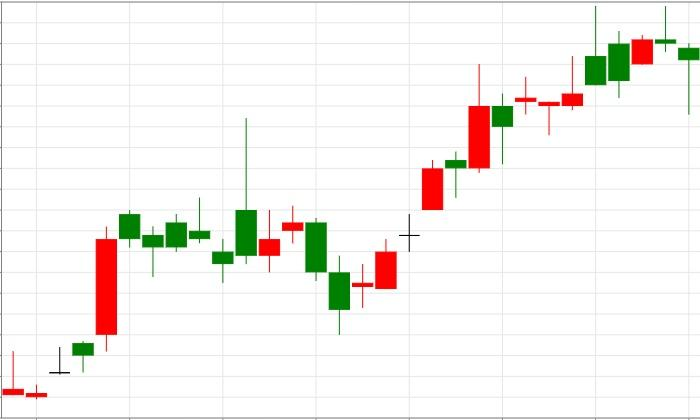shooting_star_fall: (26, 118, 257, 399)
